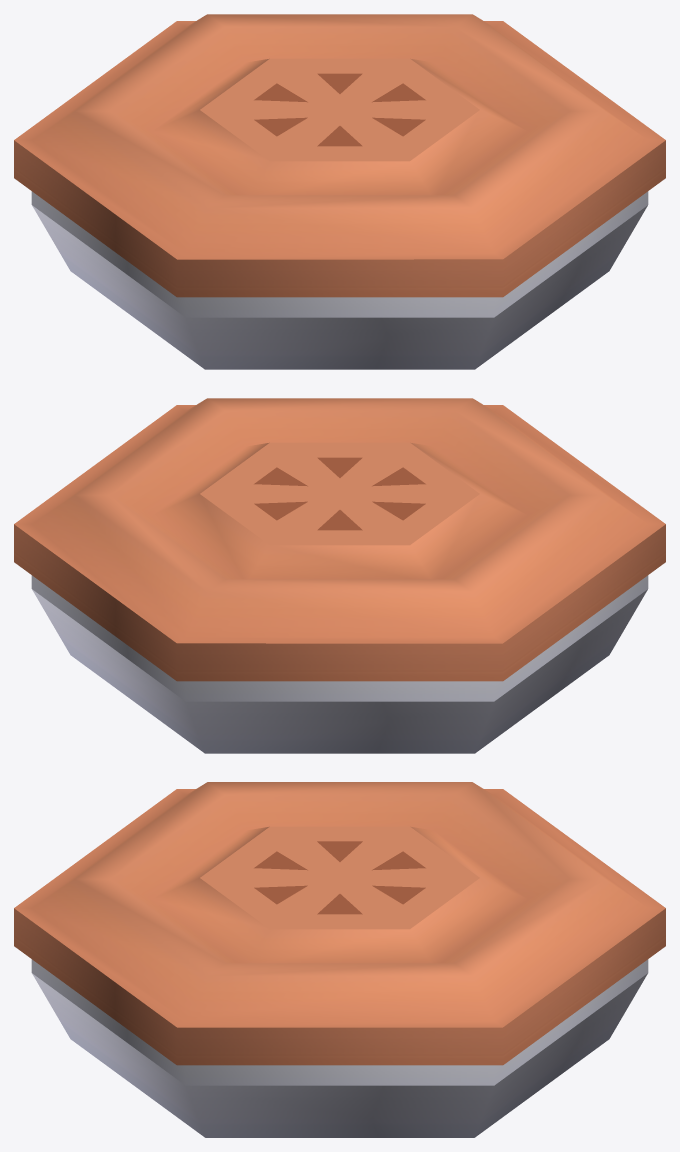
Rendered from kenney-food-mincemeat-pie.glb.
3 renders of one model, top to bottom at view 1: azimuth 30°, elevation 25°; view 2: azimuth 150°, elevation 25°; view 3: azimuth 270°, elevation 25°, orthographic.
Visible parts, largest first — view 1: mincemeat-pie; view 2: mincemeat-pie; view 3: mincemeat-pie.
Boxes of the visible parts, box(x1,y1,x2,y2) form: mincemeat-pie: box(14, 14, 665, 369); mincemeat-pie: box(14, 398, 665, 753); mincemeat-pie: box(14, 782, 665, 1137).
Size of the model in its own units: 0.531 by 0.1673 by 0.6131.
1 material, 1 textured.
